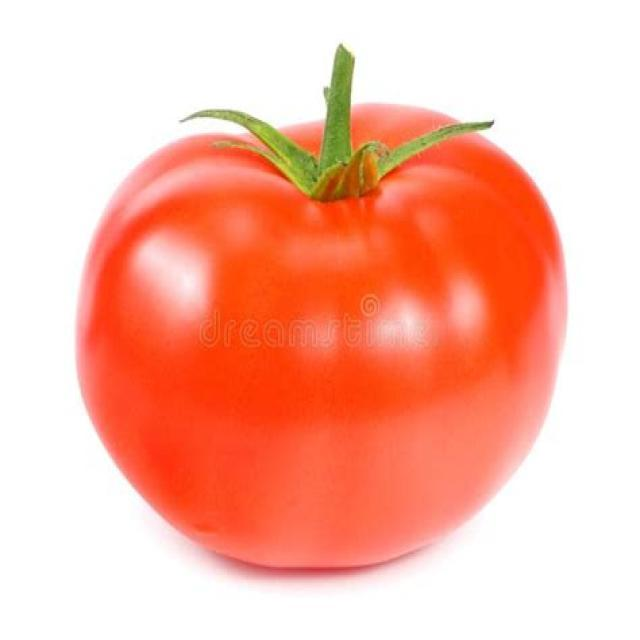Tomato: (74, 47, 570, 577)
